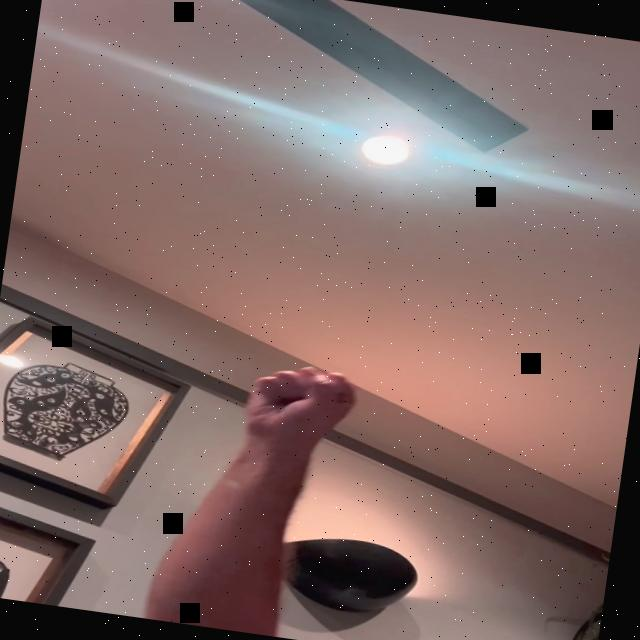Rock: (234, 358, 364, 446)
